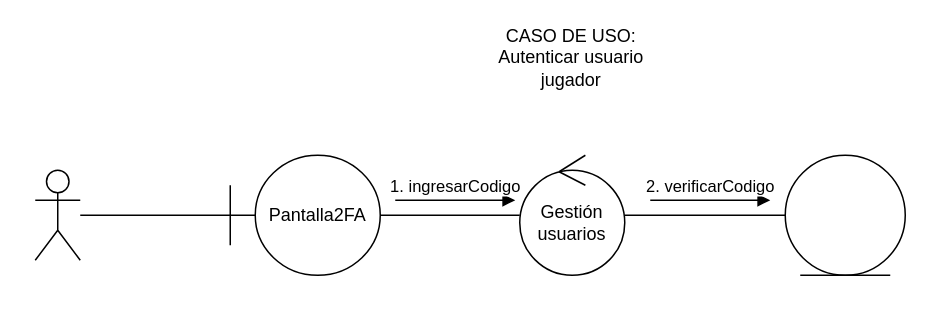
This 932x318 diagram has some shape labels left out. The box of each missing label's shape, as (x1, y1, x2, y2) in pixels:
Jugador: (34, 169, 80, 260)
Usuarios: (784, 154, 905, 275)
